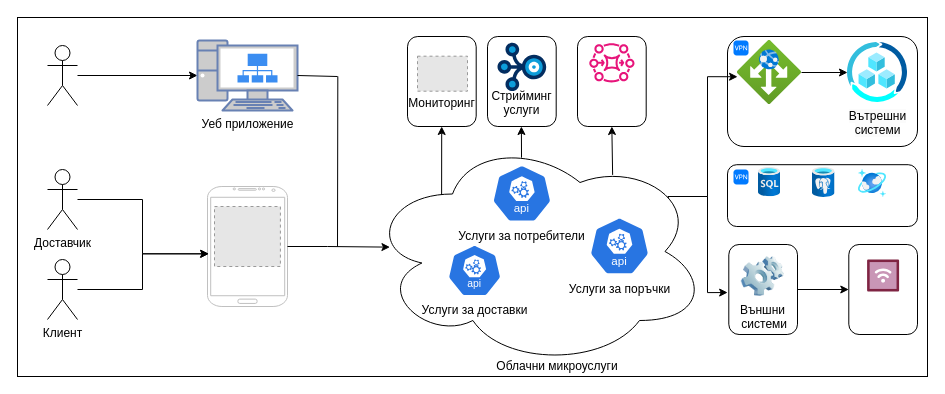
This 945x394 diagram has some shape labels left out. Grey dashed boxes stand in for pictures. The shapes that lost their labels are listed below. From the top down, each one's box as (x1, y1, x2, y2) in pixels, then its label:
(46, 44, 78, 106): Диспечер
(576, 36, 646, 126): Брокер на съобщения
(737, 40, 801, 104): Защитна стена
(726, 164, 918, 226): Клъстер от релационни и нерелационни бази от данни
(206, 186, 288, 306): Мобилно приложение
(866, 258, 899, 292): Интернет на нещата
